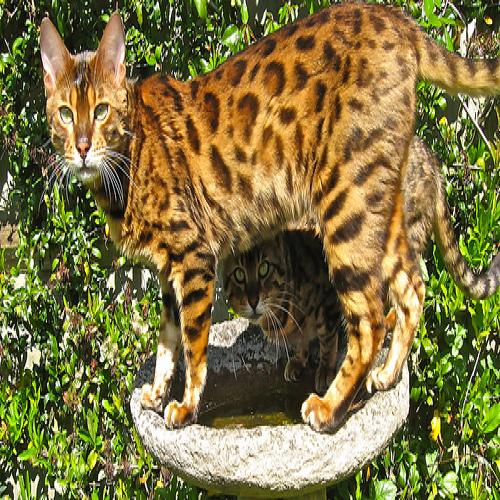cat-face: (31, 7, 146, 198)
